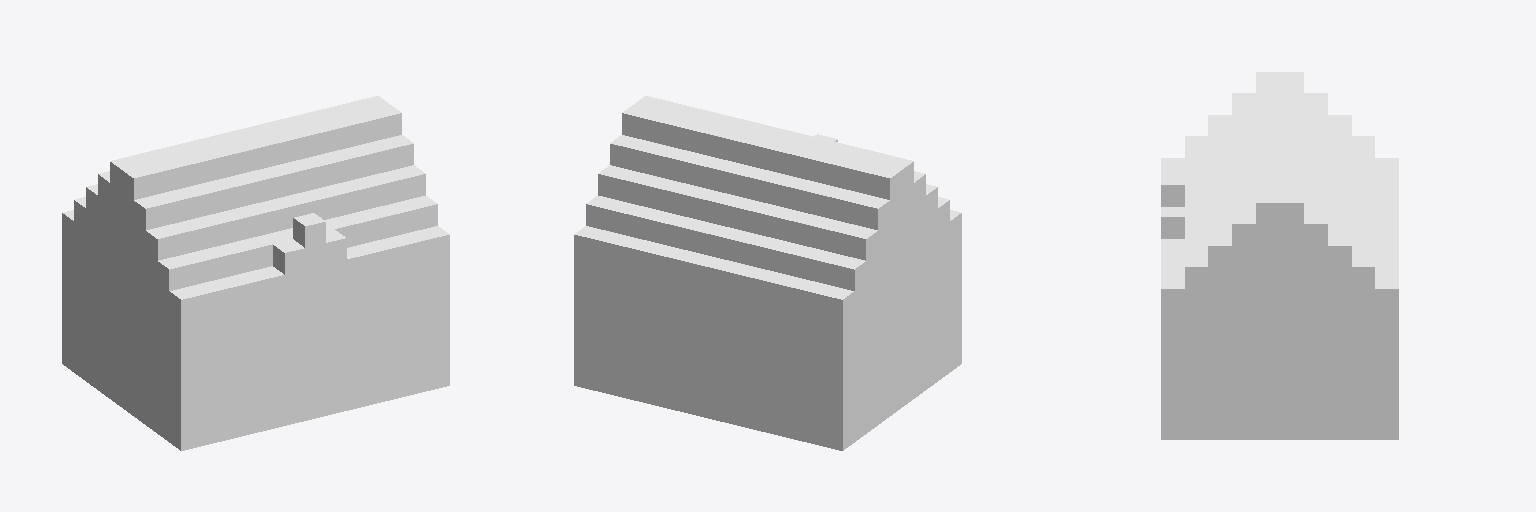
Rendered from container.obj.
3 renders of one model, left to right at view 1: azimuth 30°, elevation 25°; view 2: azimuth 150°, elevation 25°; view 3: azimuth 270°, elevation 25°, orthographic.
Parts seen in each view (by area): view 1: object 1; view 2: object 1; view 3: object 1.
Boxes of the visible parts, box(x1,y1,x2,y2) form: object 1: box(62, 96, 449, 450); object 1: box(574, 96, 961, 450); object 1: box(1161, 72, 1398, 439).
Size of the model in its own units: 1.3 by 1.1 by 1.